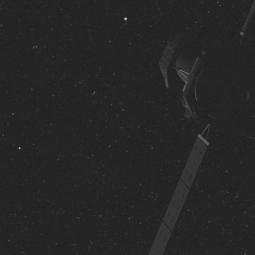xmm_newton: (134, 32, 248, 167)
